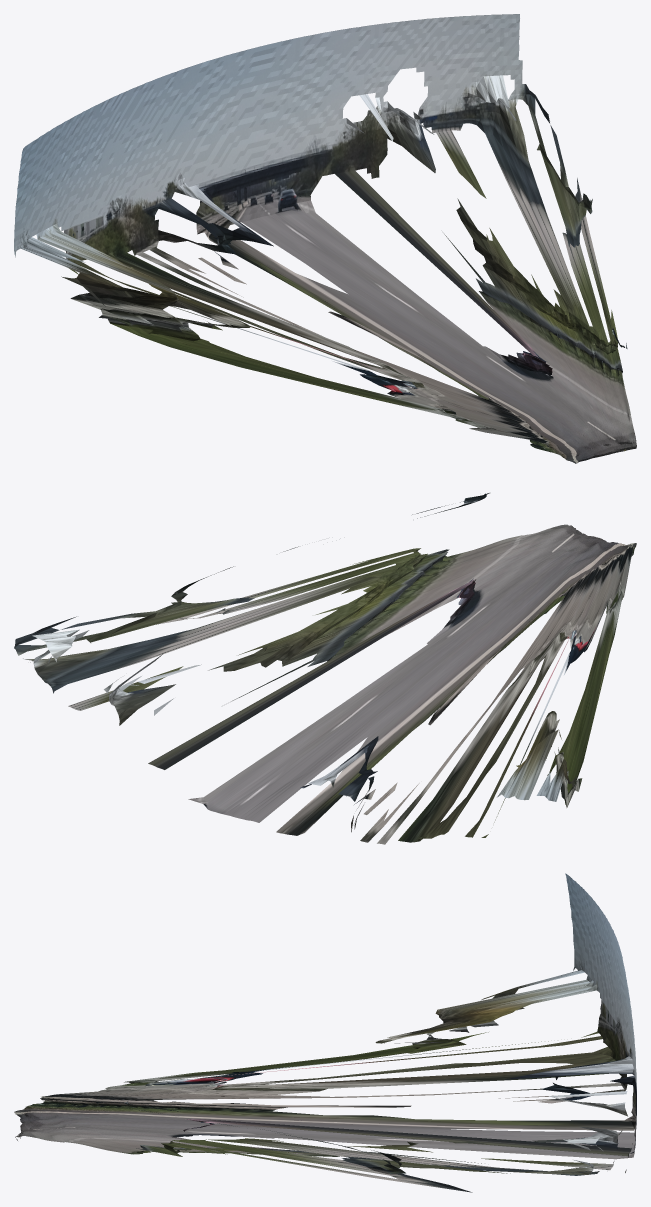
3 views of the same model, one above another, from view 1: azimuth 30°, elevation 25°; view 2: azimuth 150°, elevation 25°; view 3: azimuth 270°, elevation 25° (orthographic). The views are drawn at different scales.
Parts seen in each view (by area): view 1: defaultobject; view 2: defaultobject; view 3: defaultobject.
Boxes of the visible parts, x1,y1,x2,y2 form: defaultobject: [14, 14, 636, 463]; defaultobject: [14, 493, 636, 844]; defaultobject: [14, 873, 636, 1192].
Size of the model in its own units: 38.67 by 12.85 by 44.66.
1 material, 1 textured.
